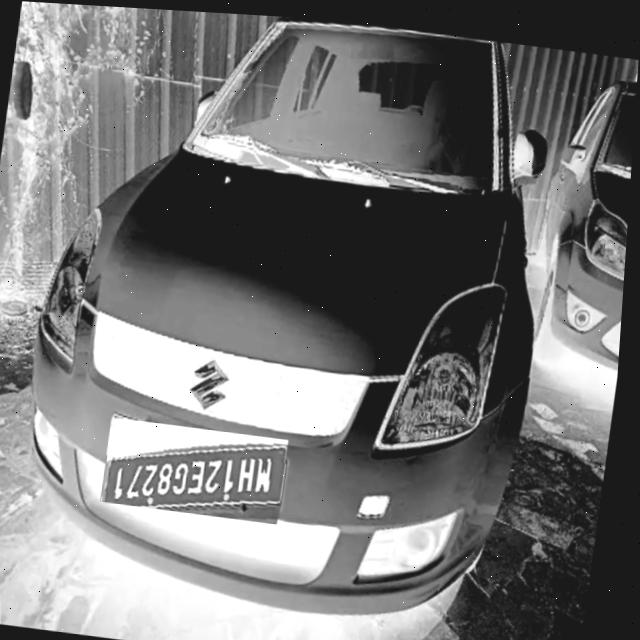Non_registered: (106, 415, 294, 520)
